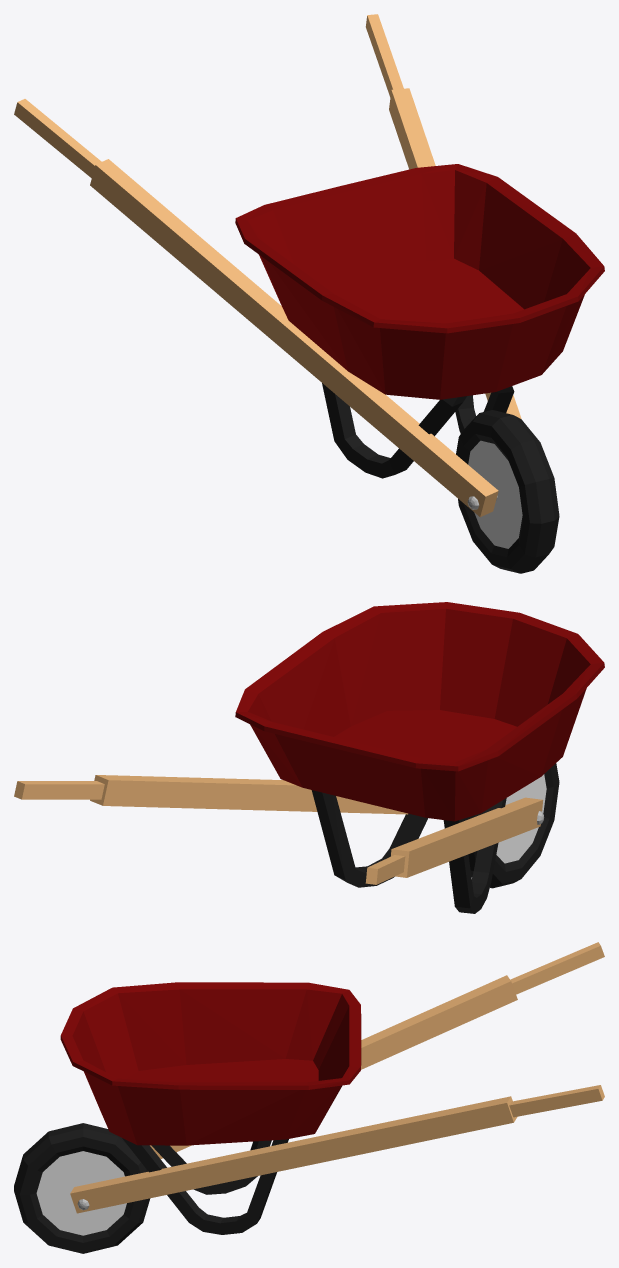
The model's file is Wheelbarrow.glb.
The picture shows the model from 3 angles, top to bottom: view 1: azimuth 30°, elevation 25°; view 2: azimuth 150°, elevation 25°; view 3: azimuth 270°, elevation 25°; orthographic projection. The views are drawn at different scales.
Visible parts, largest first — view 1: Node; view 2: Node; view 3: Node.
Part boxes in pixels (bbox=[...]): Node: bbox=[14, 14, 604, 573]; Node: bbox=[14, 602, 604, 913]; Node: bbox=[14, 942, 604, 1253].
Size of the model in its own units: 1.94 by 1.44 by 3.28.
